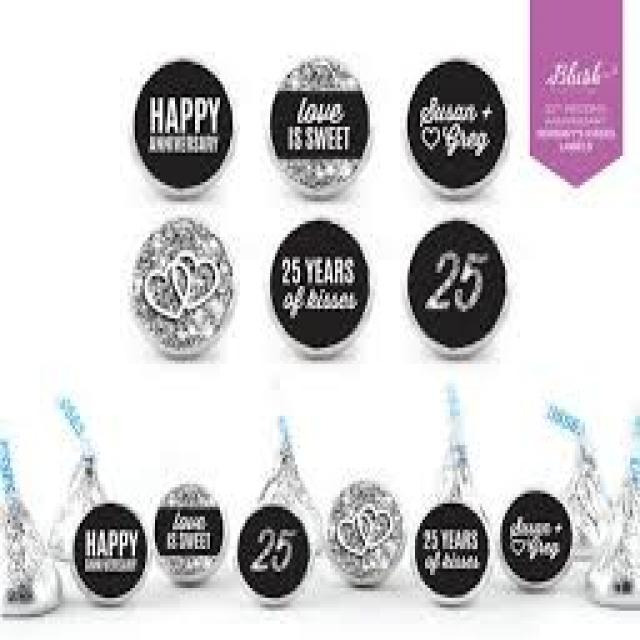kisses: (256, 452, 334, 571), (0, 487, 65, 627), (45, 438, 113, 567), (582, 490, 640, 612), (563, 445, 613, 575)
